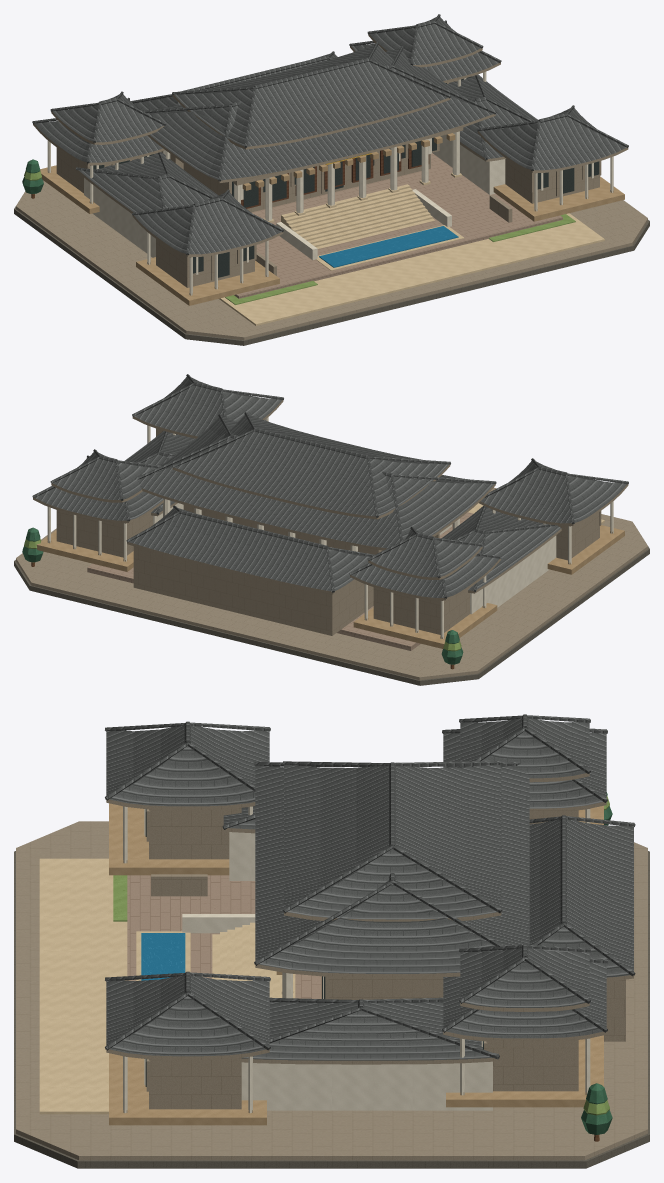
File: shaanxi-history-museum.glb
3 views of the same model, one above another, from view 1: azimuth 30°, elevation 25°; view 2: azimuth 150°, elevation 25°; view 3: azimuth 270°, elevation 25° (orthographic). The views are drawn at different scales.
Visible parts, largest first — view 1: 陕西历史博物馆本馆; view 2: 陕西历史博物馆本馆; view 3: 陕西历史博物馆本馆.
Part boxes in pixels (left/top/right/bottom): 陕西历史博物馆本馆: left=14, top=14, right=649, bottom=345; 陕西历史博物馆本馆: left=14, top=374, right=649, bottom=685; 陕西历史博物馆本馆: left=14, top=714, right=649, bottom=1168.
Size of the model in its own units: 14.98 by 4.09 by 11.96.
14 materials, 14 textured.
